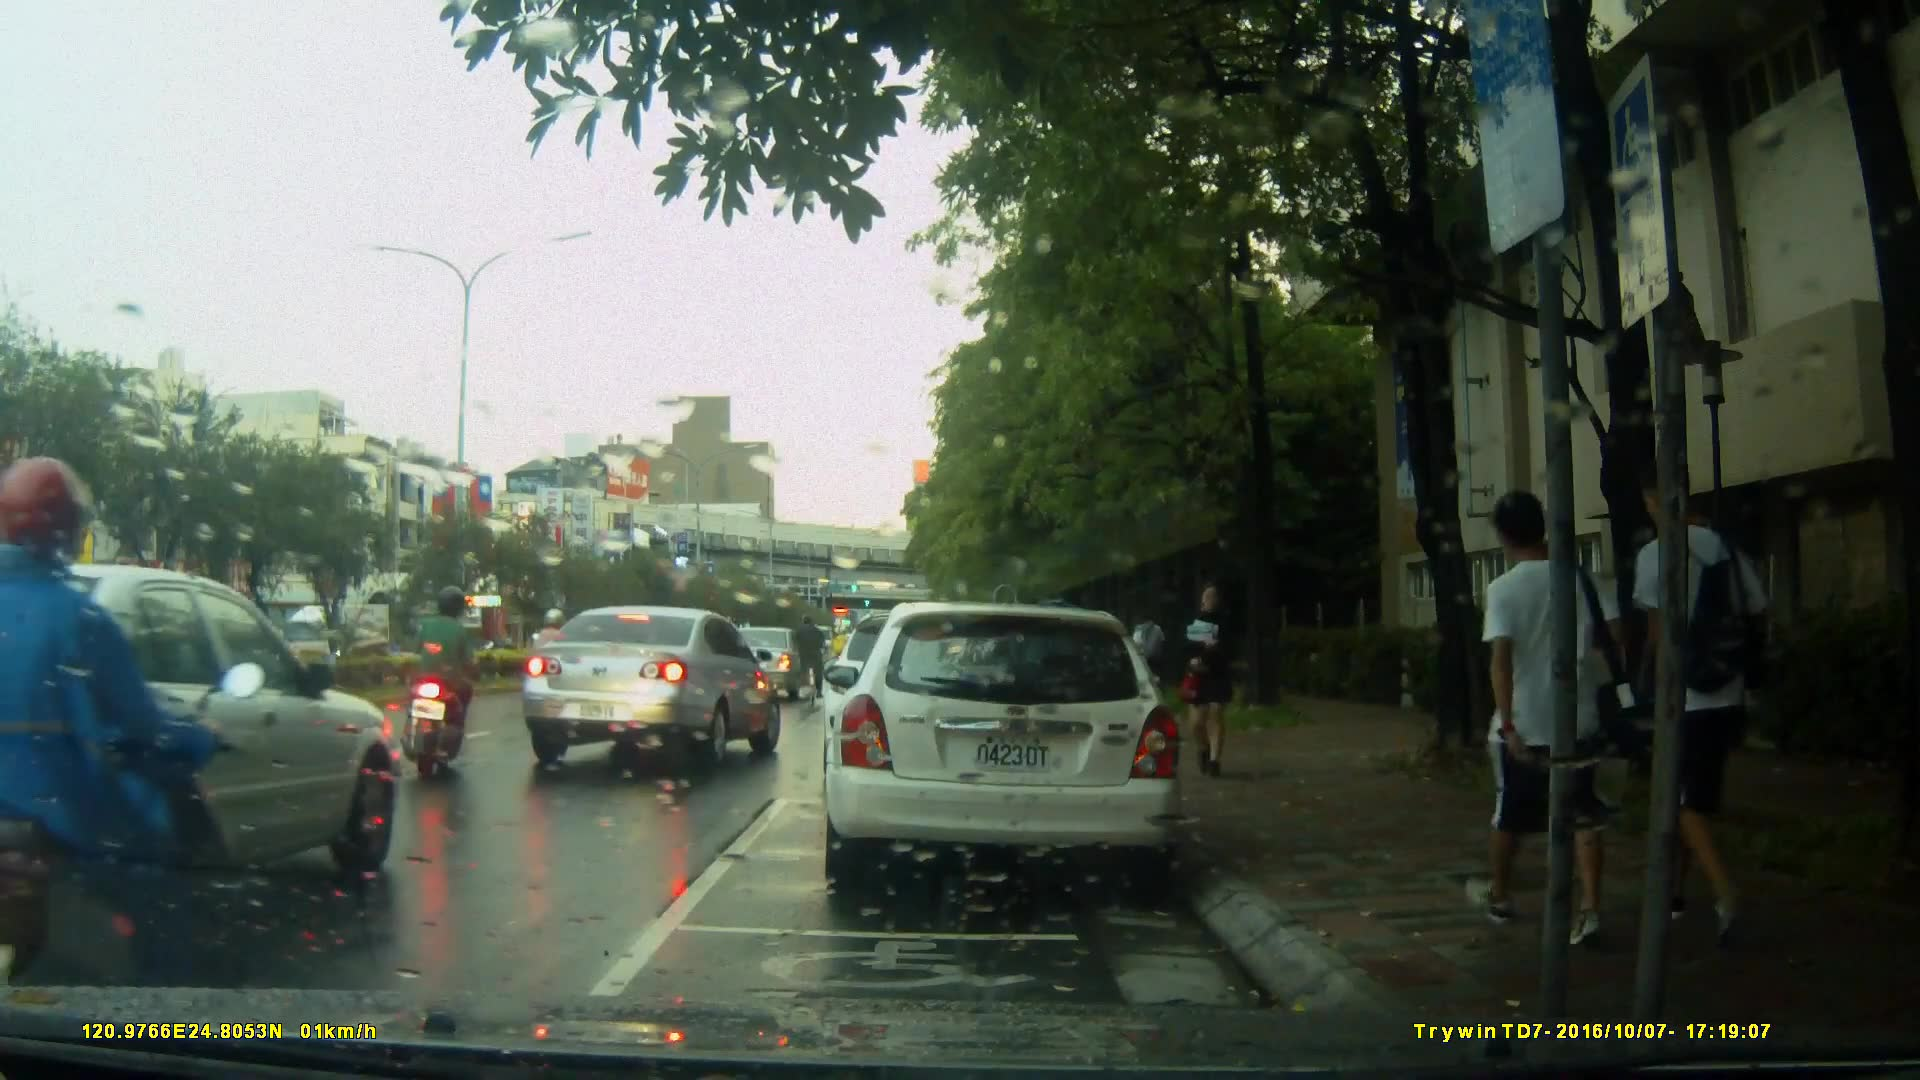pedestrian: (1460, 467, 1625, 946), (1621, 438, 1748, 937), (1176, 567, 1245, 784), (1129, 604, 1173, 732)
rider: (1, 452, 273, 1015), (409, 584, 490, 773), (526, 604, 569, 732), (788, 612, 822, 710), (833, 627, 853, 682)
vehicle: (1, 561, 409, 949), (820, 602, 1188, 898), (518, 603, 788, 773), (705, 626, 814, 702)
